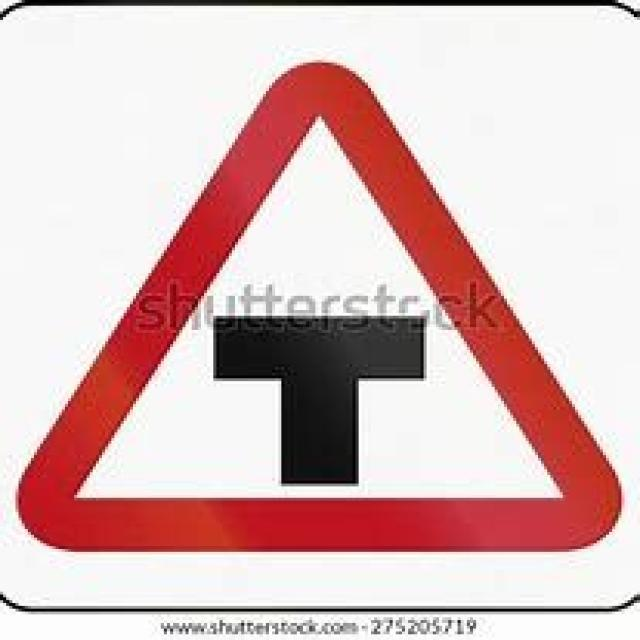t intersection: (26, 62, 612, 544)
